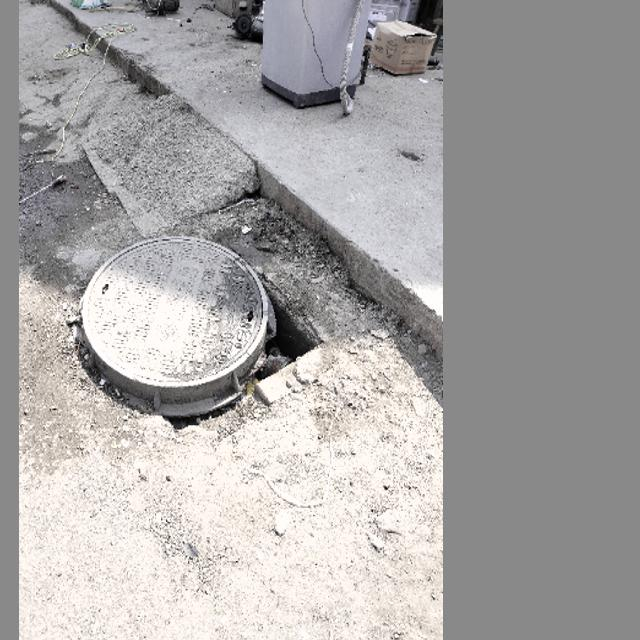circle: (70, 223, 304, 423)
